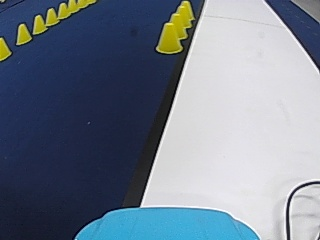cone: (155, 21, 182, 54), (167, 14, 187, 40), (175, 0, 194, 27), (15, 22, 31, 44), (32, 14, 46, 33), (0, 36, 11, 60), (44, 7, 57, 25), (57, 2, 68, 18), (67, 0, 76, 12)
